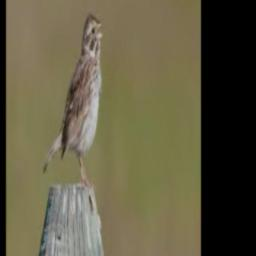Sparrow: (43, 13, 104, 185)
